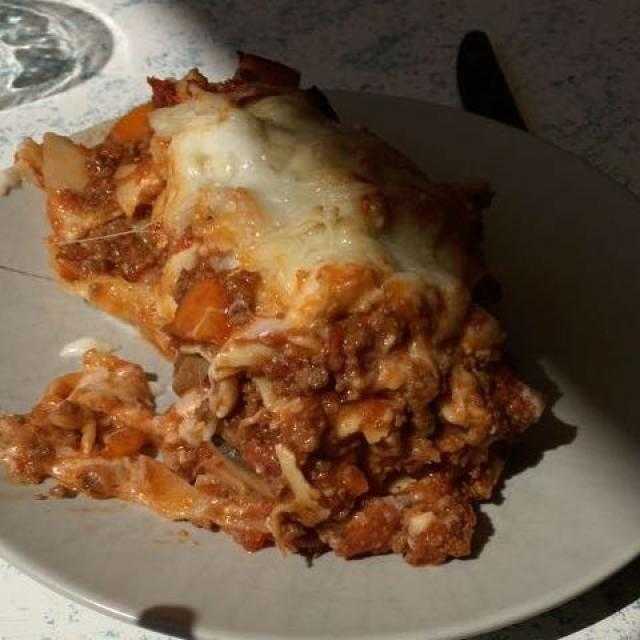lasagne: (28, 66, 604, 587)
